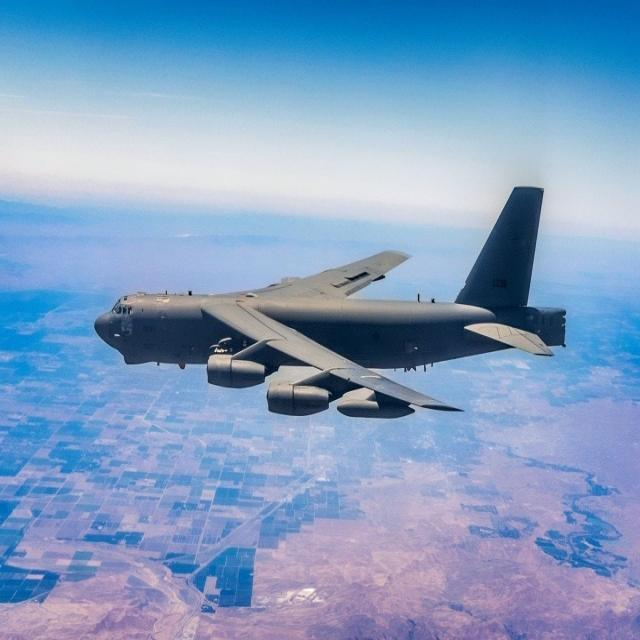B52: (82, 171, 583, 453)
